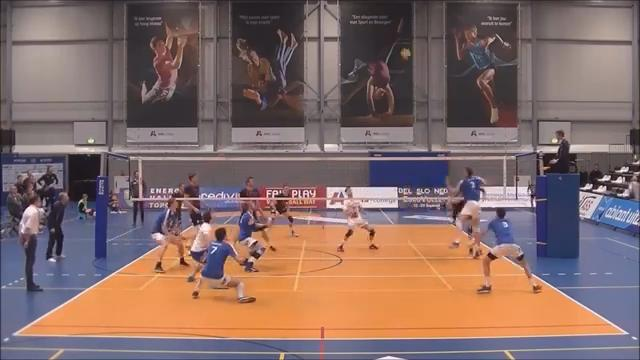Player: (477, 208, 540, 293), (192, 228, 255, 302), (449, 167, 484, 257), (152, 198, 188, 272), (337, 186, 377, 251), (236, 202, 267, 271), (187, 211, 213, 281), (269, 185, 297, 236), (180, 200, 201, 248), (171, 183, 184, 226), (239, 177, 259, 198)
ball: (398, 48, 414, 62)
